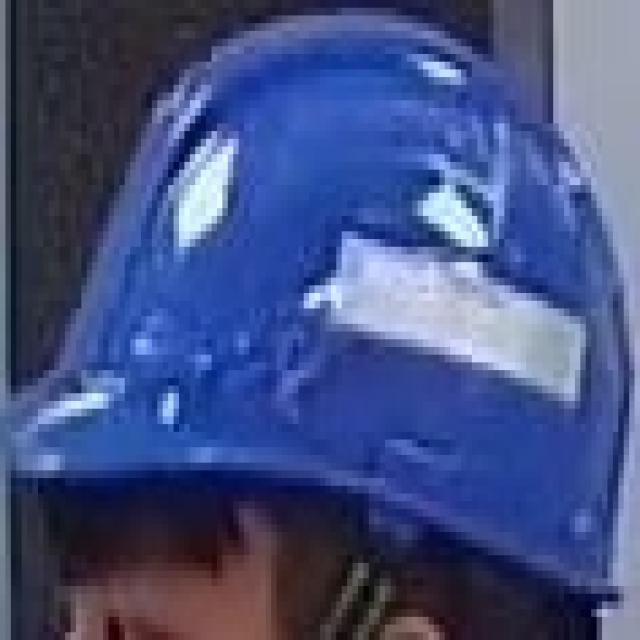Helmet: (9, 4, 637, 622)
